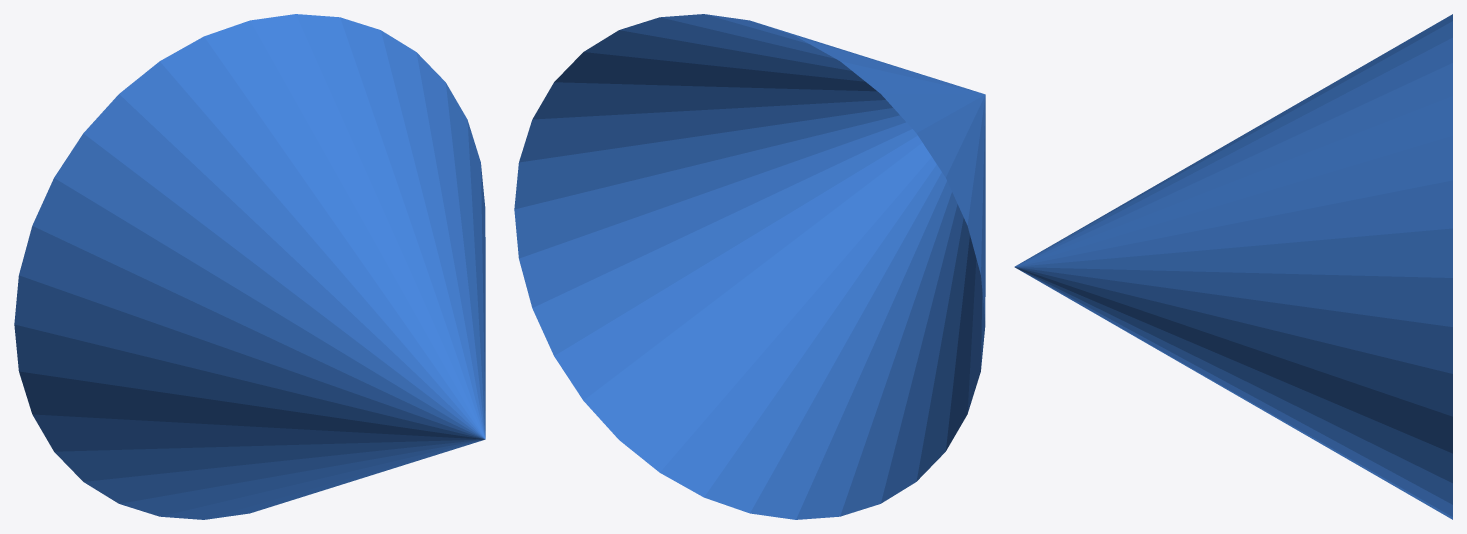
File: fuji_body_blue.obj
3 views of the same model, side by side, from view 1: azimuth 30°, elevation 25°; view 2: azimuth 150°, elevation 25°; view 3: azimuth 270°, elevation 25° (orthographic). The views are drawn at different scales.
Bounding box in the file's own units: 1.5 × 1.5 × 1.3.
